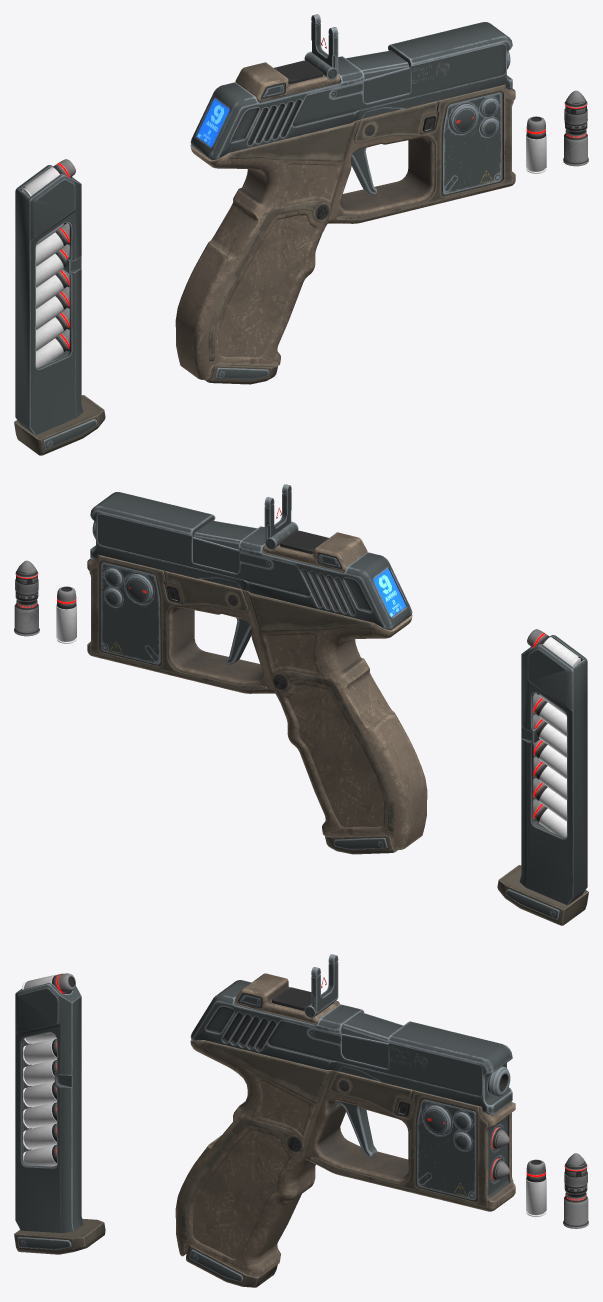
The model's file is pistol.fbx.
3 renders of one model, top to bottom at view 1: azimuth 30°, elevation 25°; view 2: azimuth 150°, elevation 25°; view 3: azimuth 330°, elevation 25°, orthographic.
Parts seen in each view (by area): view 1: lozha_low.004, zatvor_low.004, Magazin_low.004, patron_low.005, picel1_low.004, raketa_low.005, knopka2_low.004, Magazin_low.005, stenka_low.004, patron_low.004, patronnik_low.004, picel4_low.004 (+2 smaller); view 2: lozha_low.004, zatvor_low.004, Magazin_low.004, patron_low.005, picel1_low.004, raketa_low.005, knopka2_low.004, Magazin_low.005, stenka_low.004, patron_low.004, patronnik_low.004, picel4_low.004 (+2 smaller); view 3: lozha_low.004, zatvor_low.004, Magazin_low.004, patron_low.005, picel1_low.004, raketa_low.005, Magazin_low.005, knopka2_low.004, stenka_low.004, patron_low.004, patronnik_low.004, picel4_low.004 (+3 smaller).
Boxes of the visible parts, bbox=[...] form: lozha_low.004: bbox=[175, 84, 515, 380]; zatvor_low.004: bbox=[190, 22, 512, 160]; Magazin_low.004: bbox=[14, 165, 105, 455]; patron_low.005: bbox=[22, 159, 75, 367]; picel1_low.004: bbox=[235, 62, 340, 101]; raketa_low.005: bbox=[563, 90, 588, 166]; knopka2_low.004: bbox=[449, 98, 498, 137]; Magazin_low.005: bbox=[205, 364, 277, 384]; stenka_low.004: bbox=[363, 67, 409, 102]; patron_low.004: bbox=[526, 116, 546, 173]; patronnik_low.004: bbox=[346, 50, 408, 79]; picel4_low.004: bbox=[311, 14, 338, 71]; lozha_low.004: bbox=[87, 554, 427, 850]; zatvor_low.004: bbox=[90, 492, 412, 630]; Magazin_low.004: bbox=[497, 635, 588, 925]; patron_low.005: bbox=[527, 629, 580, 837]; picel1_low.004: bbox=[262, 532, 367, 571]; raketa_low.005: bbox=[14, 560, 39, 636]; knopka2_low.004: bbox=[104, 568, 153, 607]; Magazin_low.005: bbox=[325, 834, 397, 854]; stenka_low.004: bbox=[193, 537, 239, 572]; patron_low.004: bbox=[56, 586, 76, 643]; patronnik_low.004: bbox=[194, 520, 256, 549]; picel4_low.004: bbox=[264, 484, 291, 541]; lozha_low.004: bbox=[175, 1040, 515, 1276]; zatvor_low.004: bbox=[190, 980, 512, 1115]; Magazin_low.004: bbox=[14, 973, 105, 1254]; patron_low.005: bbox=[22, 973, 75, 1166]; picel1_low.004: bbox=[235, 973, 339, 1023]; raketa_low.005: bbox=[563, 1153, 588, 1228]; Magazin_low.005: bbox=[186, 1245, 277, 1287]; knopka2_low.004: bbox=[422, 1105, 471, 1150]; stenka_low.004: bbox=[342, 1034, 388, 1068]; patron_low.004: bbox=[526, 1159, 546, 1217]; patronnik_low.004: bbox=[343, 1012, 403, 1042]; picel4_low.004: bbox=[311, 954, 338, 1013].
Size of the model in its own units: 407 by 244 by 36.21.
